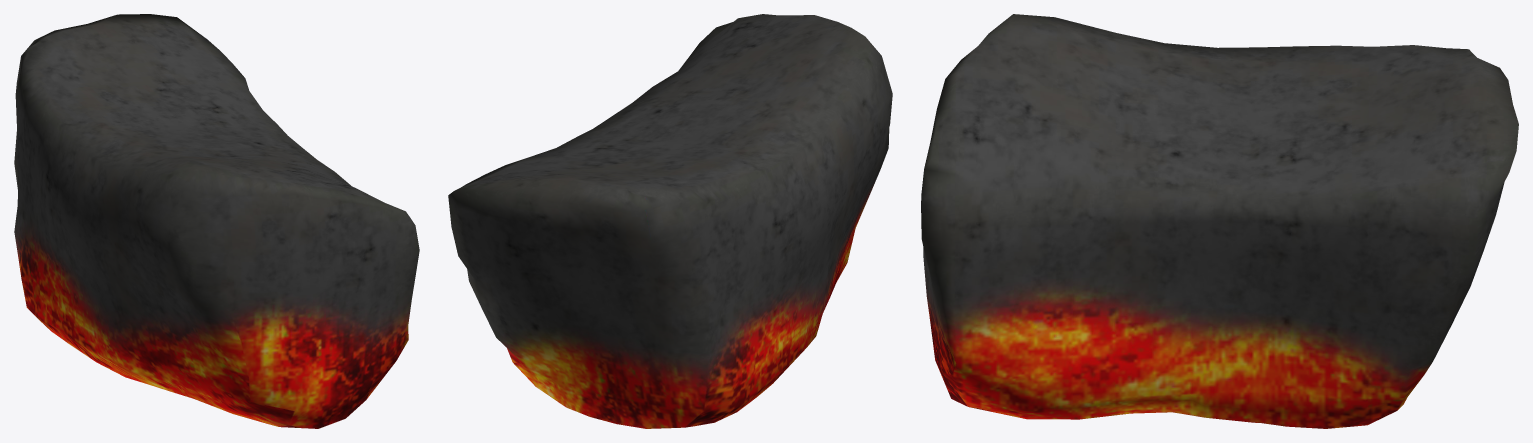
Rendered from Rock_3.fbx.
3 renders of one model, left to right at view 1: azimuth 30°, elevation 25°; view 2: azimuth 150°, elevation 25°; view 3: azimuth 270°, elevation 25°, orthographic. The views are drawn at different scales.
Visible parts, largest first — view 1: Rock_5:Group63711; view 2: Rock_5:Group63711; view 3: Rock_5:Group63711.
Boxes of the visible parts, box(x1,y1,x2,y2) form: Rock_5:Group63711: box(14, 14, 419, 428); Rock_5:Group63711: box(448, 14, 892, 428); Rock_5:Group63711: box(921, 14, 1518, 428).
Bounding box in the file's own units: 1.96 × 2.15 × 3.44.
1 material, 1 textured.
